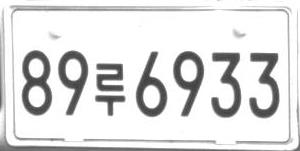3: (210, 52, 242, 118), (249, 52, 280, 119)
6: (134, 51, 167, 117)
8: (20, 49, 52, 115)
9: (57, 49, 89, 115), (173, 50, 204, 116)
루: (95, 62, 125, 116)
